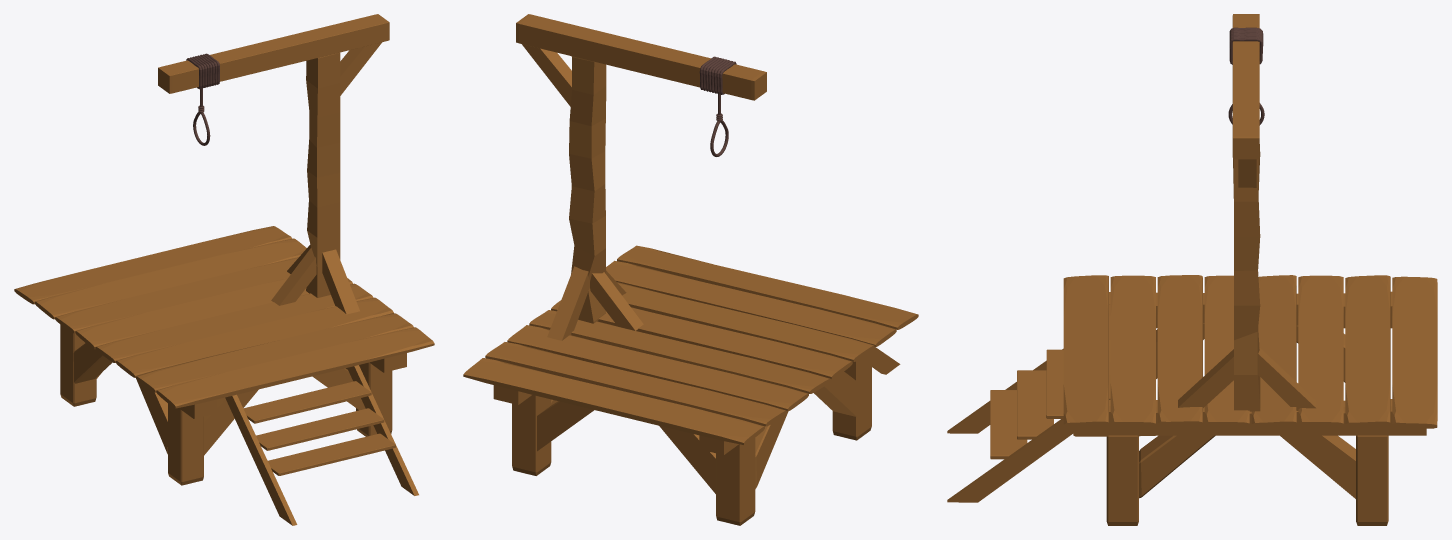
Rendered from Gantungan Fix.fbx.
3 views of the same model, side by side, from view 1: azimuth 30°, elevation 25°; view 2: azimuth 150°, elevation 25°; view 3: azimuth 270°, elevation 25° (orthographic). The views are drawn at different scales.
Parts seen in each view (by area): view 1: Circle.009; view 2: Circle.009; view 3: Circle.009.
Boxes of the visible parts, x1,y1,x2,y2 form: Circle.009: [14, 14, 434, 525]; Circle.009: [463, 14, 918, 525]; Circle.009: [947, 14, 1437, 525].
Bounding box in the file's own units: 247 × 298 × 315.
